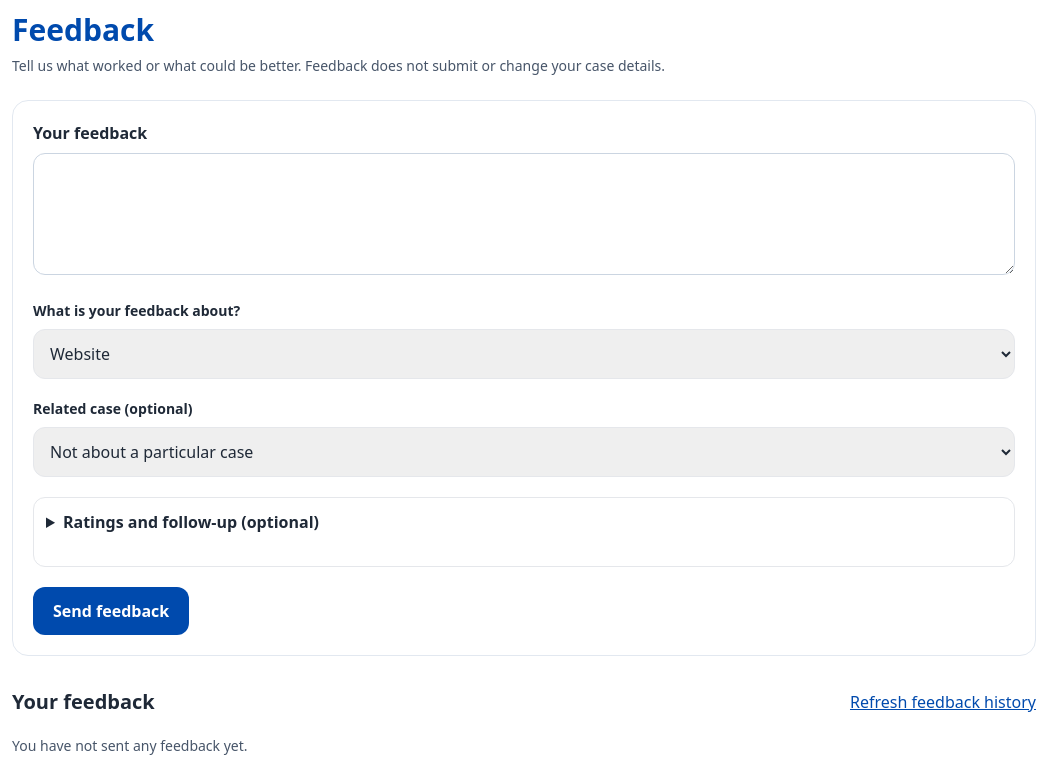
it: lawyer feedback selects an owned case by name, never a typed internal identifier
This screenshot has width=1048, height=763.
Check: the text "You have not sent any feedback yet." is shown, box [12,736,248,755]
Select "Your lawyer" in the dropdown labelled "What is your feedback about?" at (524, 354), box [33,329,1015,379]
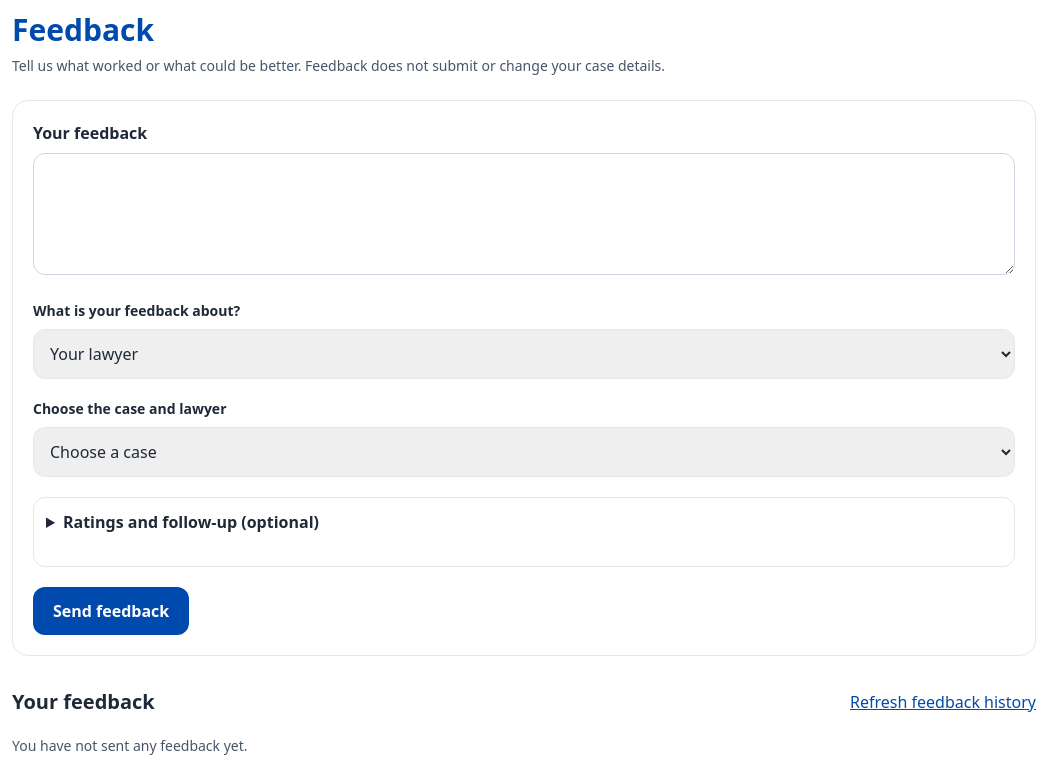
Select "Fictional tenancy — Example Lawyer" in the dropdown labelled "Choose the case and lawyer" at (524, 452), box [33,427,1015,477]
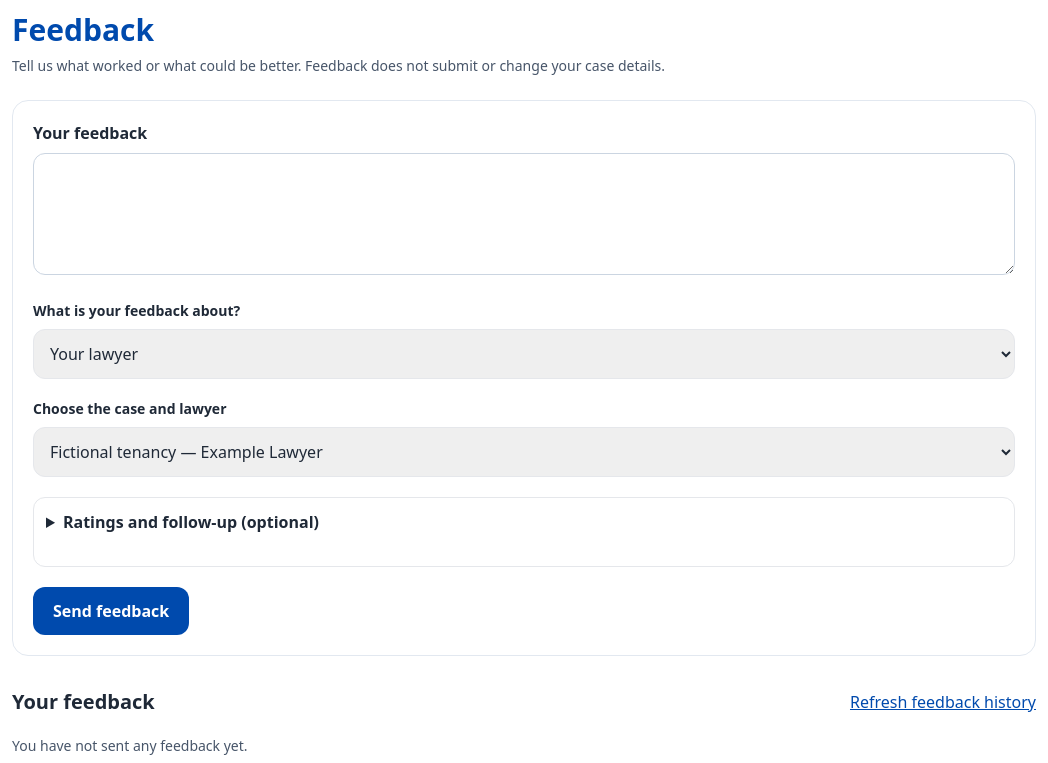
Type "Fictional lawyer feedback" into the text box labelled "Your feedback".
click(524, 214); type("Fictional lawyer feedback")  # box [33,153,1015,275]
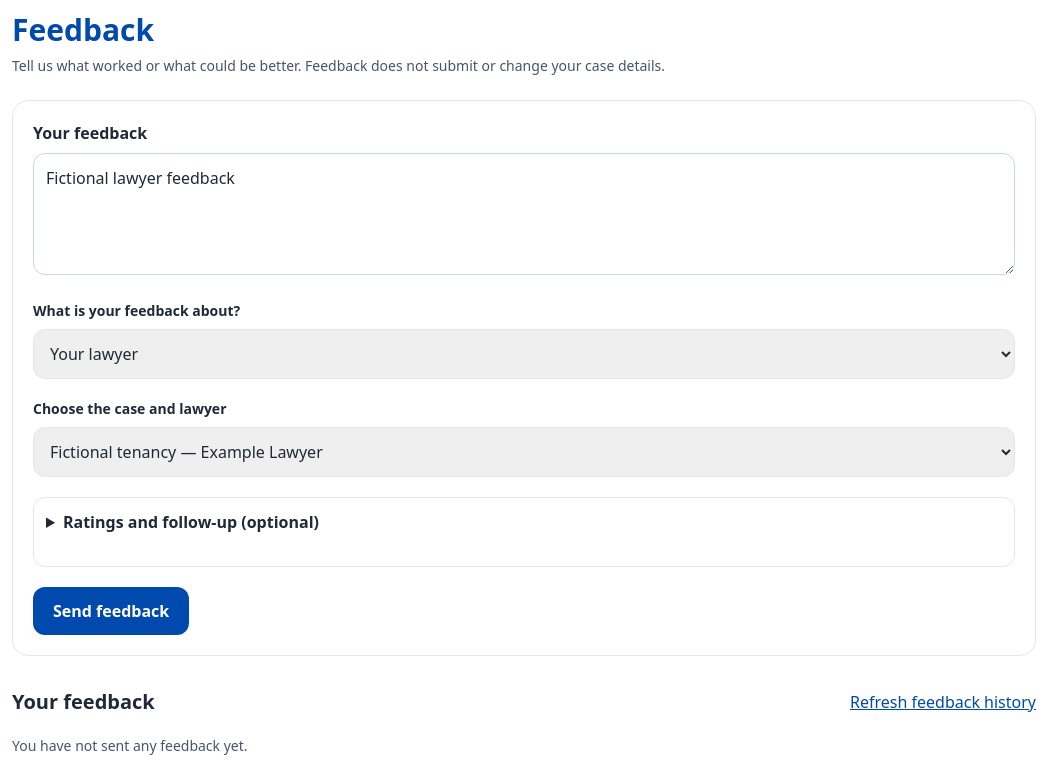
Click the button "Send feedback".
click(111, 611)  # box [33,587,189,635]
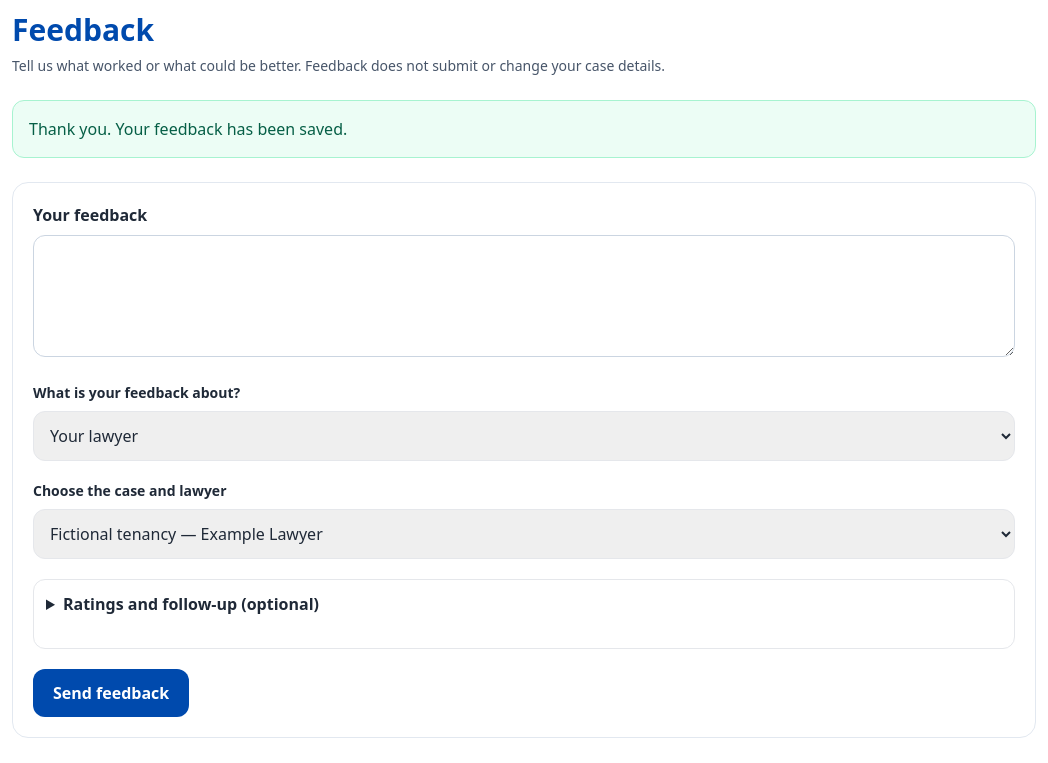
Check: the text "Thank you. Your feedback has been saved." is shown, box [12,100,1036,158]
